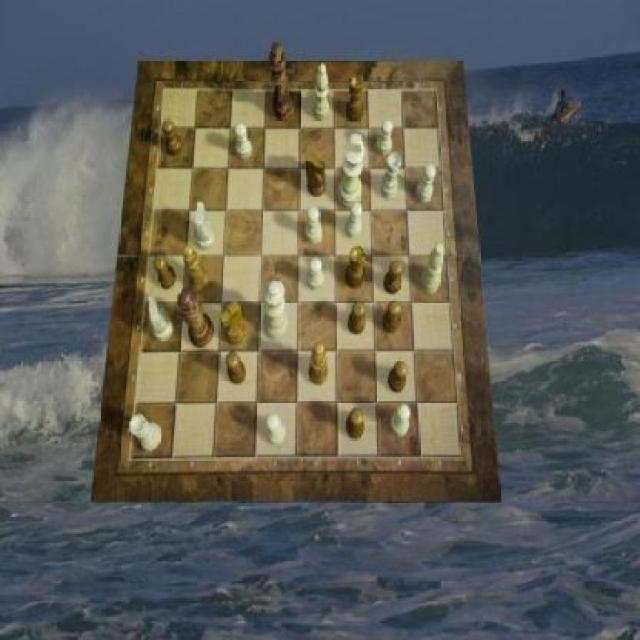bishop: (185, 246, 209, 294), (309, 341, 329, 384)
black-bishop: (268, 42, 294, 122)
black-king: (218, 302, 246, 346), (306, 154, 326, 198)
black-knight: (154, 255, 177, 290), (163, 119, 183, 156), (384, 260, 404, 295), (226, 350, 246, 384), (346, 408, 366, 440), (388, 361, 407, 394), (383, 300, 401, 334), (348, 302, 365, 336)
black-pawn: (177, 288, 214, 349)
black-queen: (344, 246, 366, 289), (346, 74, 364, 121)
black-rook: (422, 243, 444, 294), (312, 63, 330, 121)
white-bishop: (338, 132, 366, 207)
white-king: (149, 296, 174, 342), (196, 202, 216, 250)
white-knight: (417, 165, 437, 202), (391, 403, 412, 437), (266, 414, 286, 446), (346, 202, 363, 239), (306, 257, 324, 291), (306, 208, 323, 244), (235, 125, 253, 159), (377, 120, 394, 156)
white-pawn: (263, 280, 289, 340)
white-queen: (129, 414, 162, 451), (382, 154, 402, 200)
